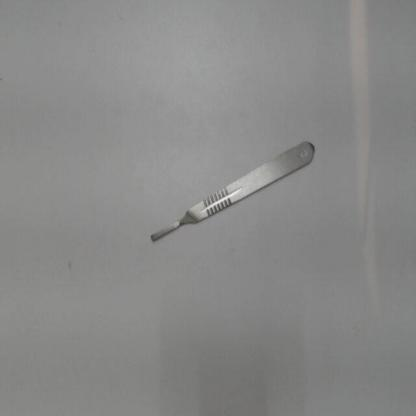No.4 BP Handle: (139, 128, 324, 258)
